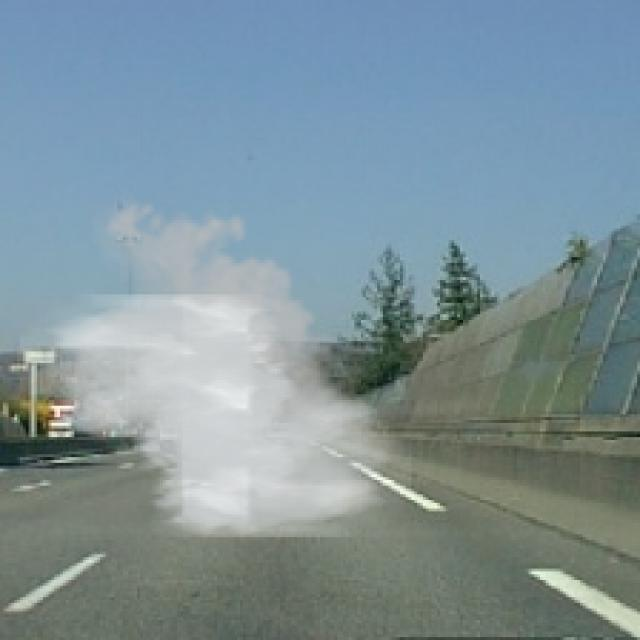Smoke: (19, 192, 412, 537)
